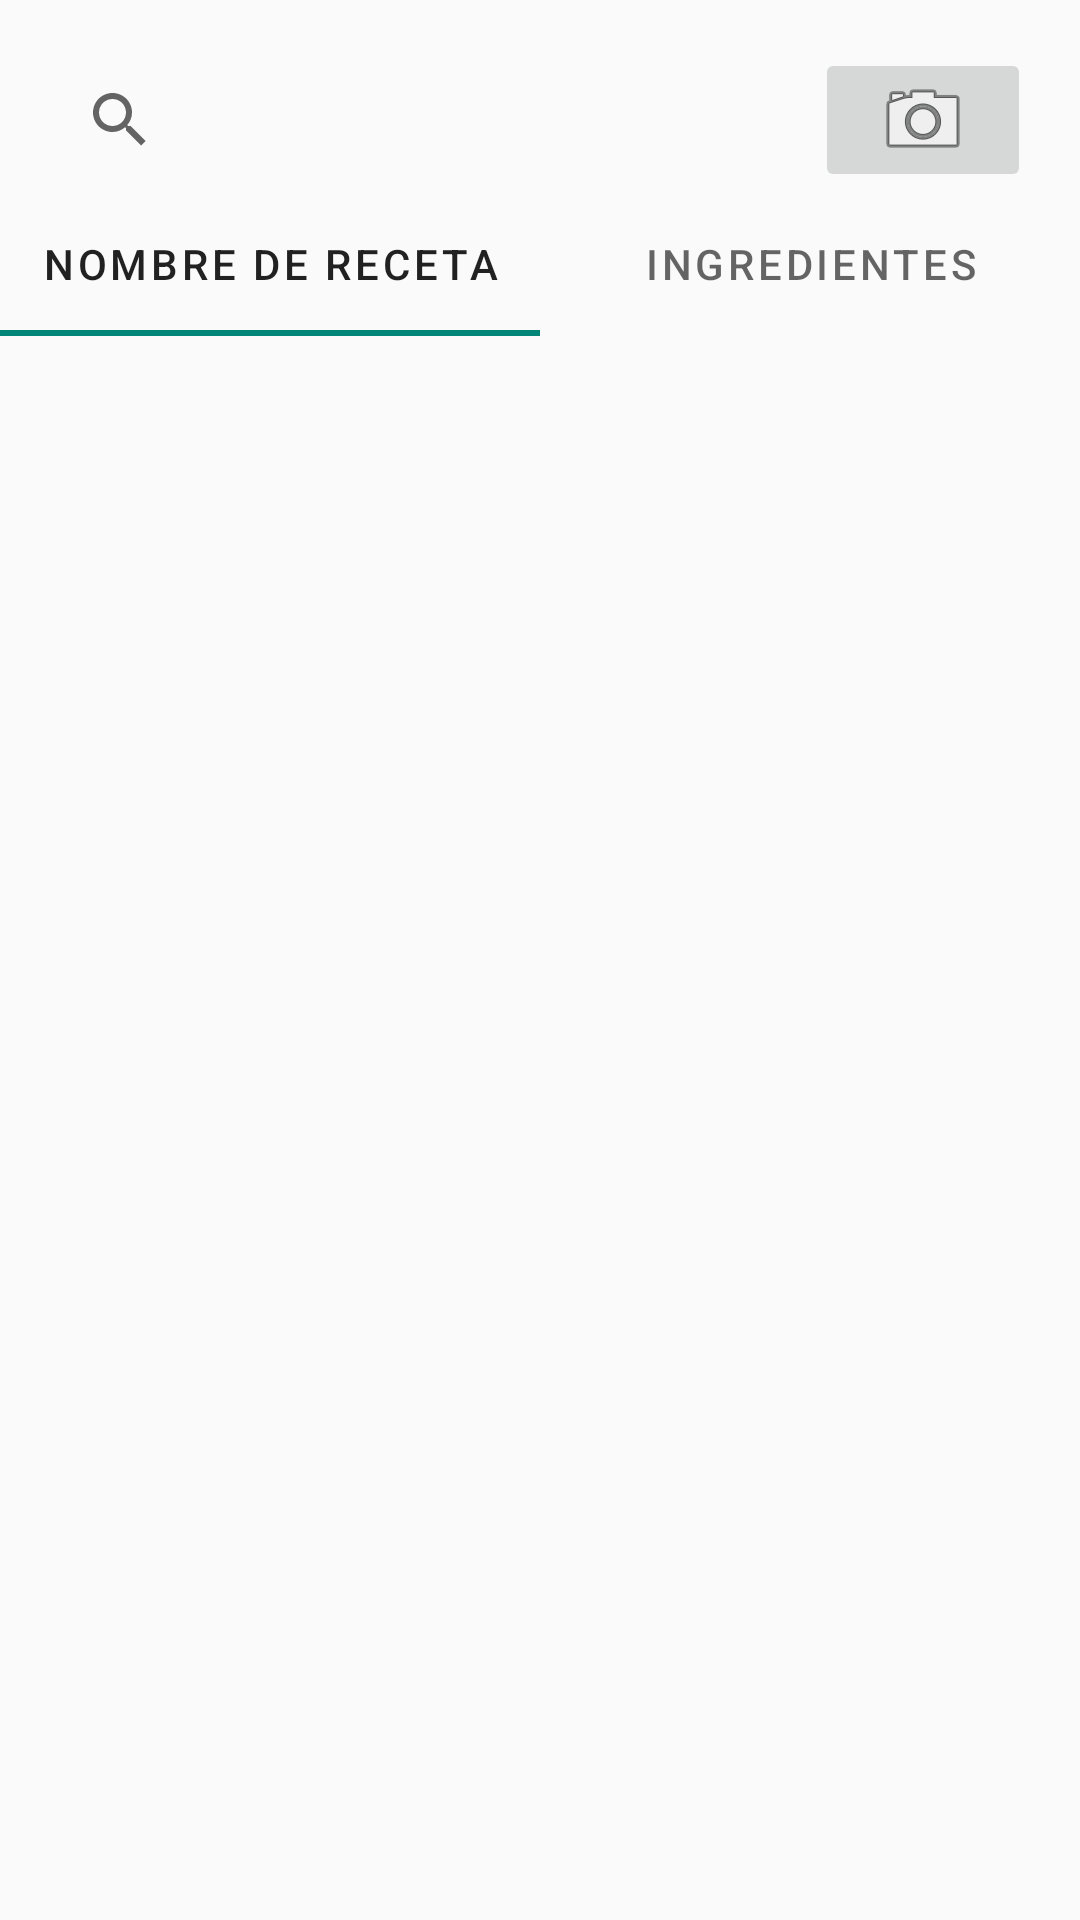

Screen size 1080w x 1920h. Icon name, then its box in pixels as (x1, y1, x2, y2):
camera: (827, 66, 1019, 174)
